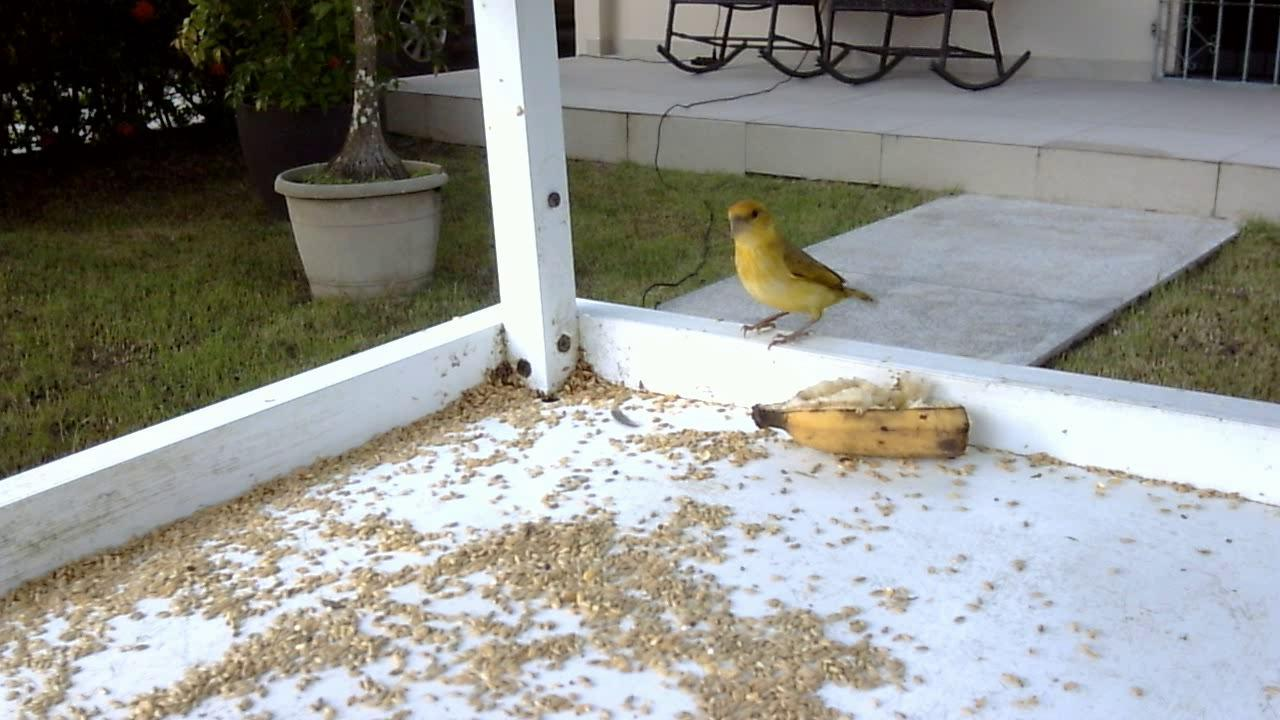canario_do_amazonas: (725, 200, 878, 348)
